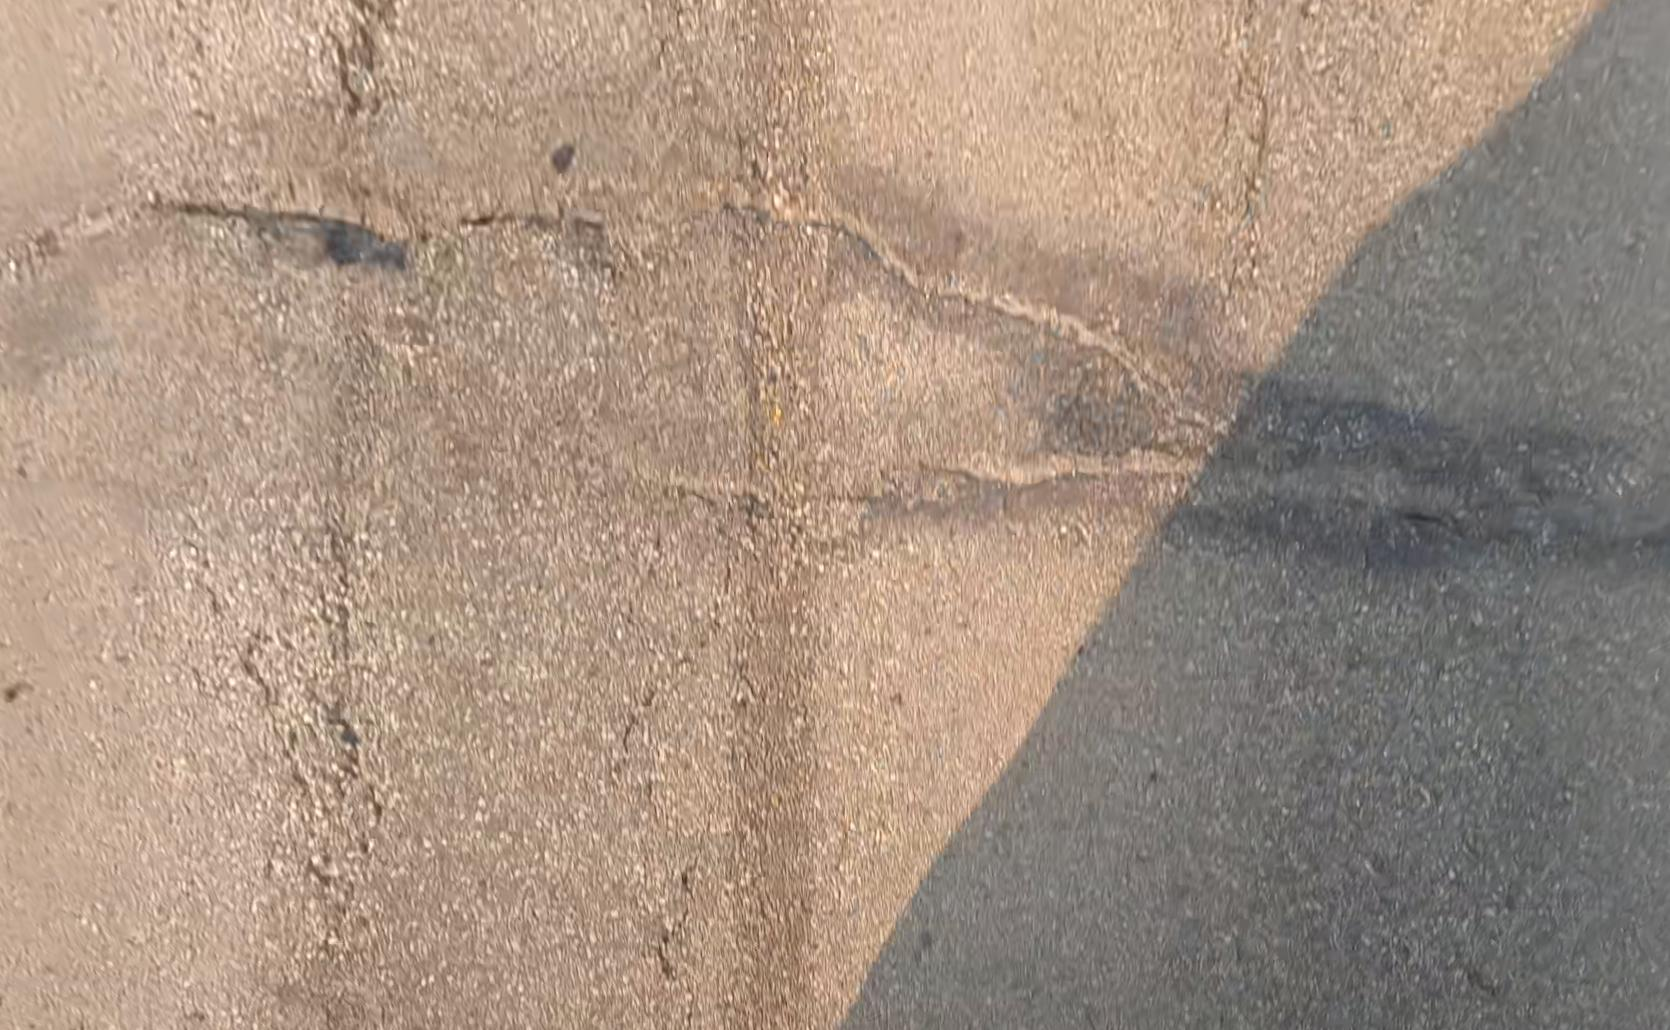pothole: (171, 169, 406, 269), (338, 0, 392, 116)
pothole_patch_poor: (0, 73, 1670, 567)
